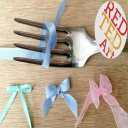Fork: (11, 13, 128, 71)
